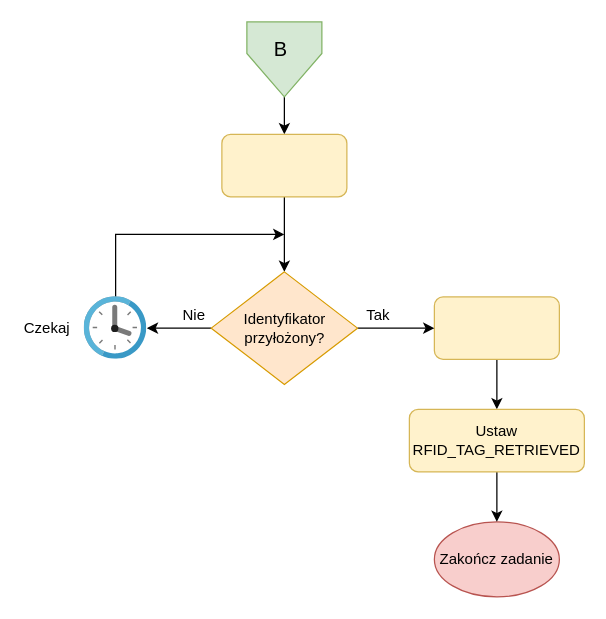
The diagram is 606 pixels wide and 619 high, and some of its shapes have lost their labels. The shapes that lost their labels are listed below. From the top down, each one's centre as x and y in pixels, then its label:
At point (284, 165): "Inicjalizuj moduł rfid".
At point (496, 327): "Zapisz rfid_id".
